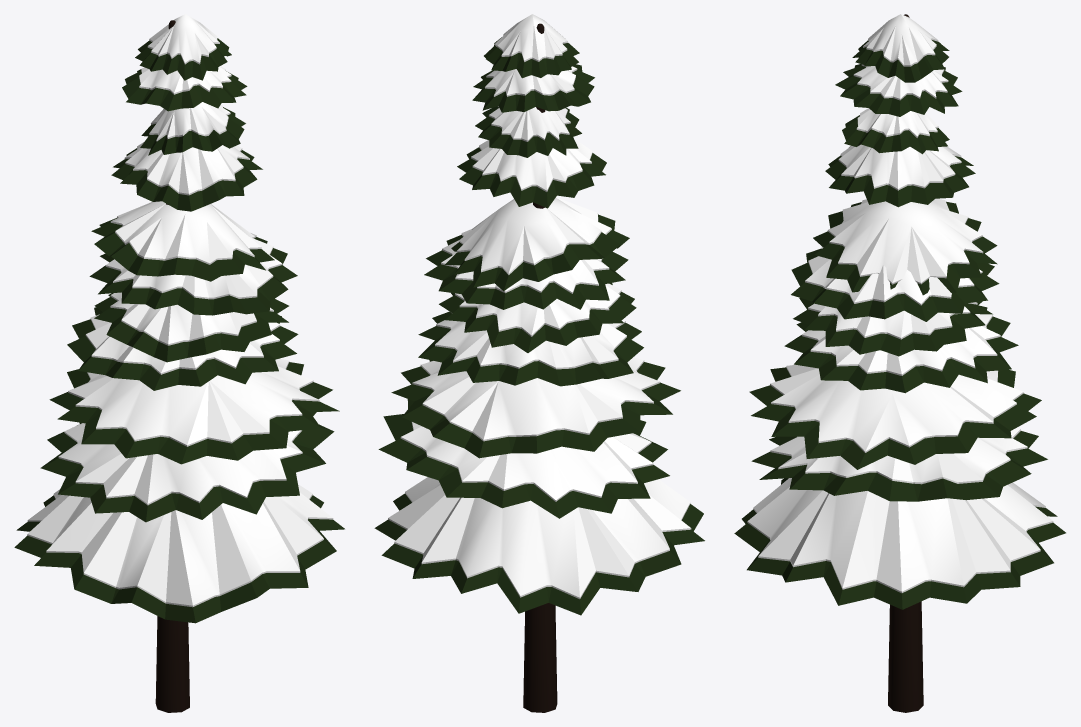
The model's file is s_tree_003.FBX.
3 renders of one model, left to right at view 1: azimuth 30°, elevation 25°; view 2: azimuth 150°, elevation 25°; view 3: azimuth 270°, elevation 25°, orthographic.
Parts seen in each view (by area): view 1: s_tree_leaves_003 (×2); view 2: s_tree_leaves_003 (×2); view 3: s_tree_leaves_003 (×2).
Part boxes in pixels (x1,y1,x2,y2): s_tree_leaves_003 (×2): [14, 14, 344, 712]; s_tree_leaves_003 (×2): [374, 14, 704, 712]; s_tree_leaves_003 (×2): [734, 14, 1065, 712].
Bounding box in the file's own units: 1.89 × 4.29 × 1.86.
